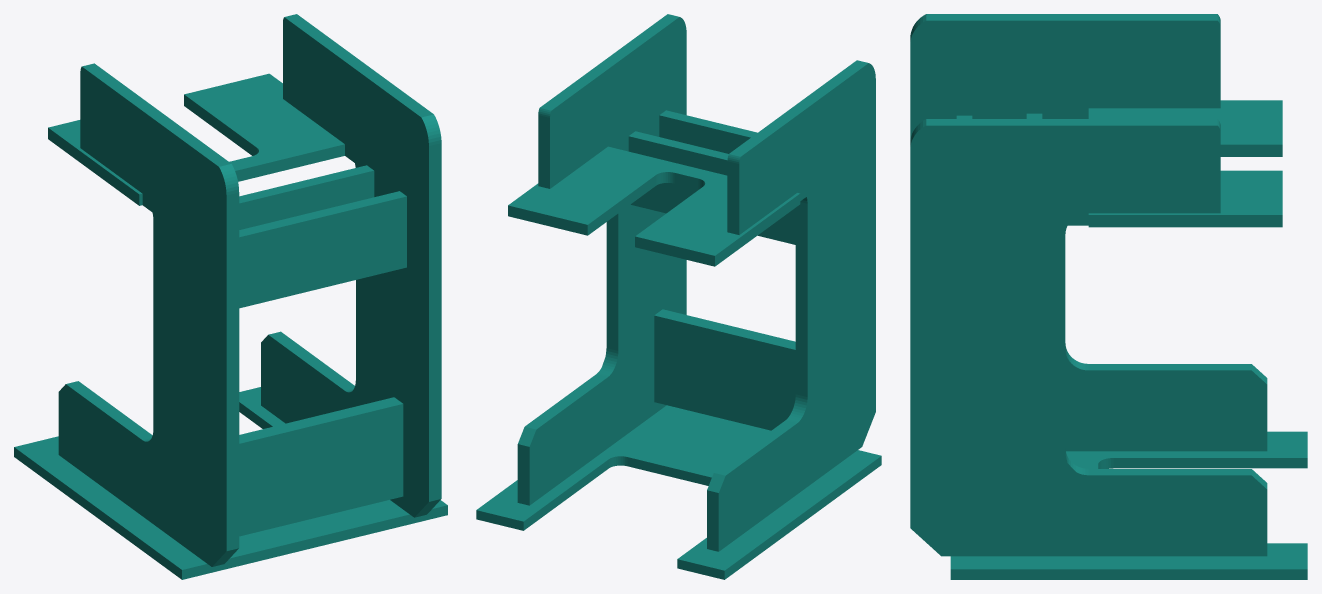
The model's file is 2Dto3D基礎模型.FBX.
3 renders of one model, left to right at view 1: azimuth 30°, elevation 25°; view 2: azimuth 150°, elevation 25°; view 3: azimuth 270°, elevation 25°, orthographic. The views are drawn at different scales.
Visible parts, largest first — view 1: 右側板, 左側板, 補強板, 元件固定板, 底板, 上頂板, 上補強板; view 2: 右側板, 左側板, 底板, 上頂板, 補強板, 上補強板, 元件固定板; view 3: 左側板, 右側板, 底板, 上頂板.
Boxes of the visible parts, x1=… form: 右側板: x1=58, y1=63, x2=239, y2=566; 左側板: x1=261, y1=14, x2=441, y2=517; 補強板: x1=239, y1=397, x2=403, y2=536; 元件固定板: x1=239, y1=191, x2=406, y2=308; 底板: x1=14, y1=387, x2=447, y2=579; 上頂板: x1=48, y1=73, x2=344, y2=205; 上補強板: x1=239, y1=165, x2=374, y2=229; 右側板: x1=707, y1=60, x2=875, y2=551; 左側板: x1=517, y1=14, x2=686, y2=505; 底板: x1=476, y1=405, x2=881, y2=579; 上頂板: x1=508, y1=146, x2=800, y2=266; 補強板: x1=654, y1=309, x2=795, y2=430; 上補強板: x1=628, y1=131, x2=795, y2=244; 元件固定板: x1=659, y1=110, x2=757, y2=153; 左側板: x1=910, y1=119, x2=1267, y2=556; 右側板: x1=910, y1=14, x2=1267, y2=451; 底板: x1=950, y1=431, x2=1307, y2=579; 上頂板: x1=1088, y1=100, x2=1282, y2=227.
Bounding box in the file's own units: 53.34 × 79.69 × 65.05.
